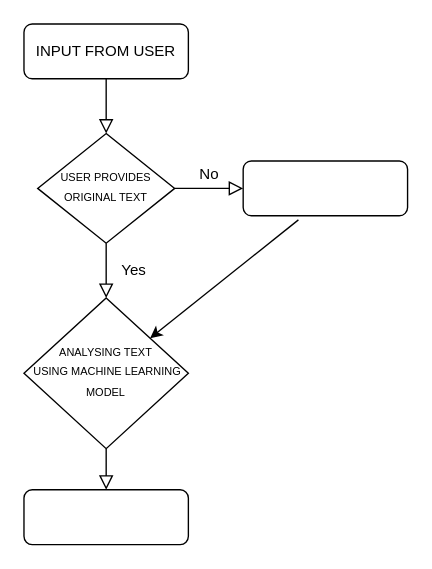
Image size: 432x569. Some labels were removed from this diagram. The shapes that lost their labels are listed below. From the top down, each one's centre as x and y in pixels, then its label:
At point (325, 188): "FIND ORIGINAL SOURCE USING WEBSCRAPPING".
At point (105, 516): "GENERATE OUTPUT".
